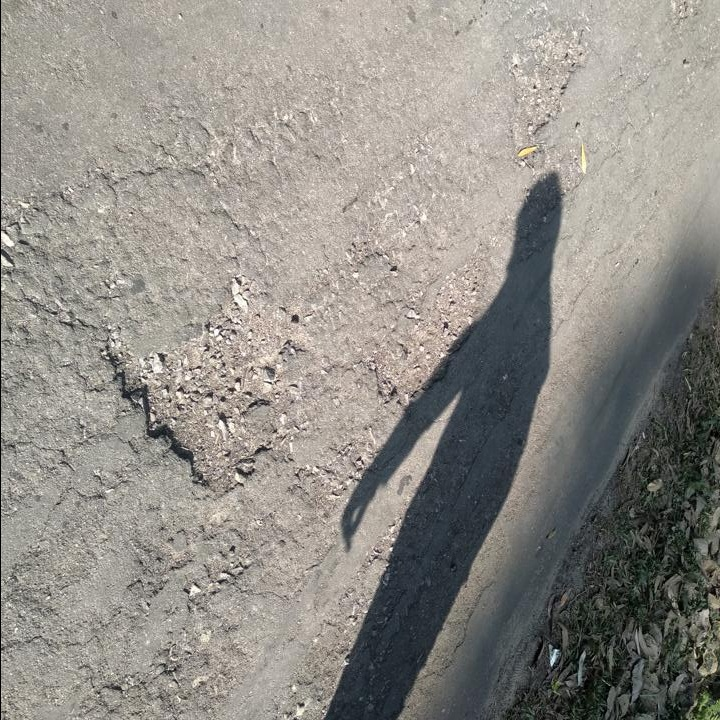pothole: (103, 277, 299, 499), (371, 246, 491, 410), (510, 22, 586, 137)
